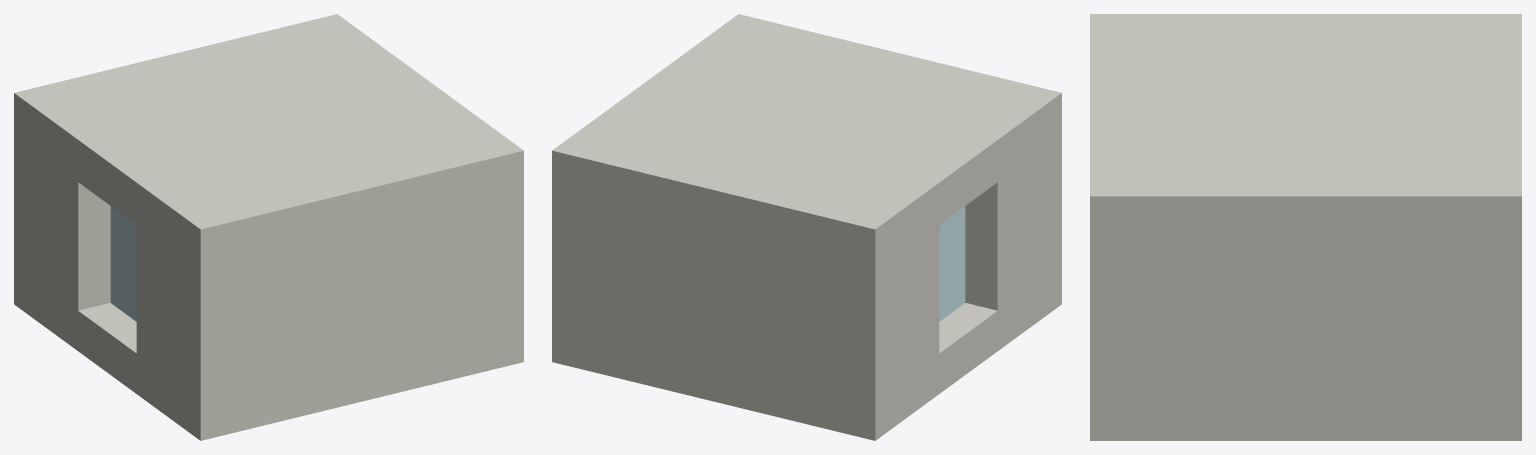
File: building_047.glb
3 renders of one model, left to right at view 1: azimuth 30°, elevation 25°; view 2: azimuth 150°, elevation 25°; view 3: azimuth 270°, elevation 25°, orthographic. The views are drawn at different scales.
Visible parts, largest first — view 1: building_047; view 2: building_047; view 3: building_047.
Boxes of the visible parts, box(x1,y1,x2,y2) form: building_047: box(14, 14, 523, 440); building_047: box(552, 14, 1061, 440); building_047: box(1090, 14, 1521, 440).
Size of the model in its own units: 1 by 0.625 by 1.
